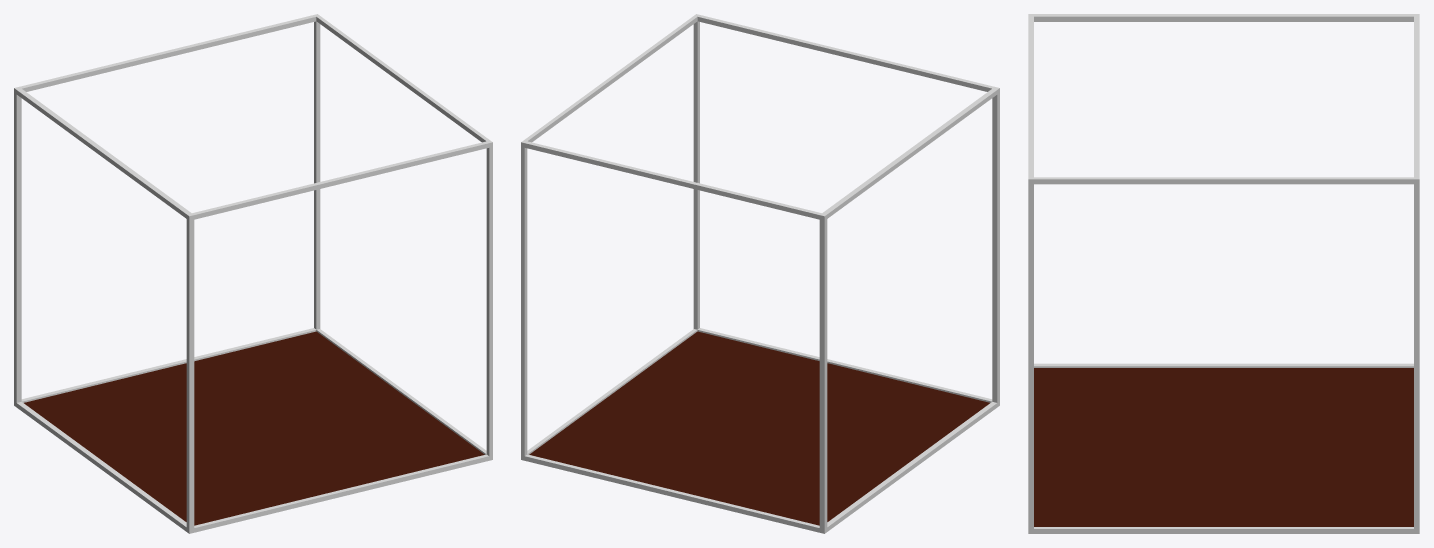
The picture shows the model from 3 angles, left to right: view 1: azimuth 30°, elevation 25°; view 2: azimuth 150°, elevation 25°; view 3: azimuth 270°, elevation 25°; orthographic projection. The views are drawn at different scales.
Visible parts, largest first — view 1: Cube.019, ESPACE 3D.001; view 2: Cube.019, ESPACE 3D.001; view 3: Cube.019, ESPACE 3D.001.
Part boxes in pixels (box(x1,y1,x2,y2)): Cube.019: box(24, 331, 484, 525); ESPACE 3D.001: box(14, 14, 492, 533); Cube.019: box(529, 331, 989, 525); ESPACE 3D.001: box(521, 14, 999, 533); Cube.019: box(1034, 368, 1413, 526); ESPACE 3D.001: box(1028, 14, 1419, 533).
Size of the model in its own units: 830 by 832 by 830.
